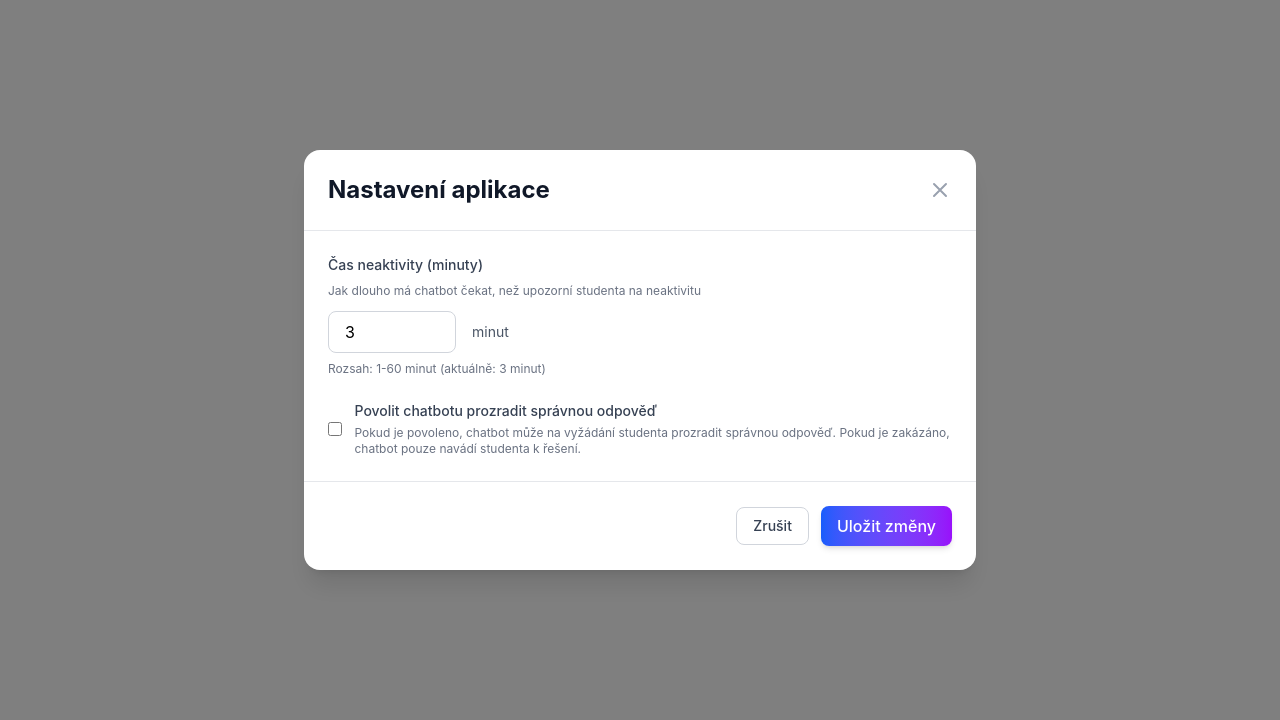
Test: SettingsModal › should reset settings when cancel clicked
This screenshot has width=1280, height=720.
Replace the text in the number field with "10" at (392, 332), box 328,311 -> 456,353
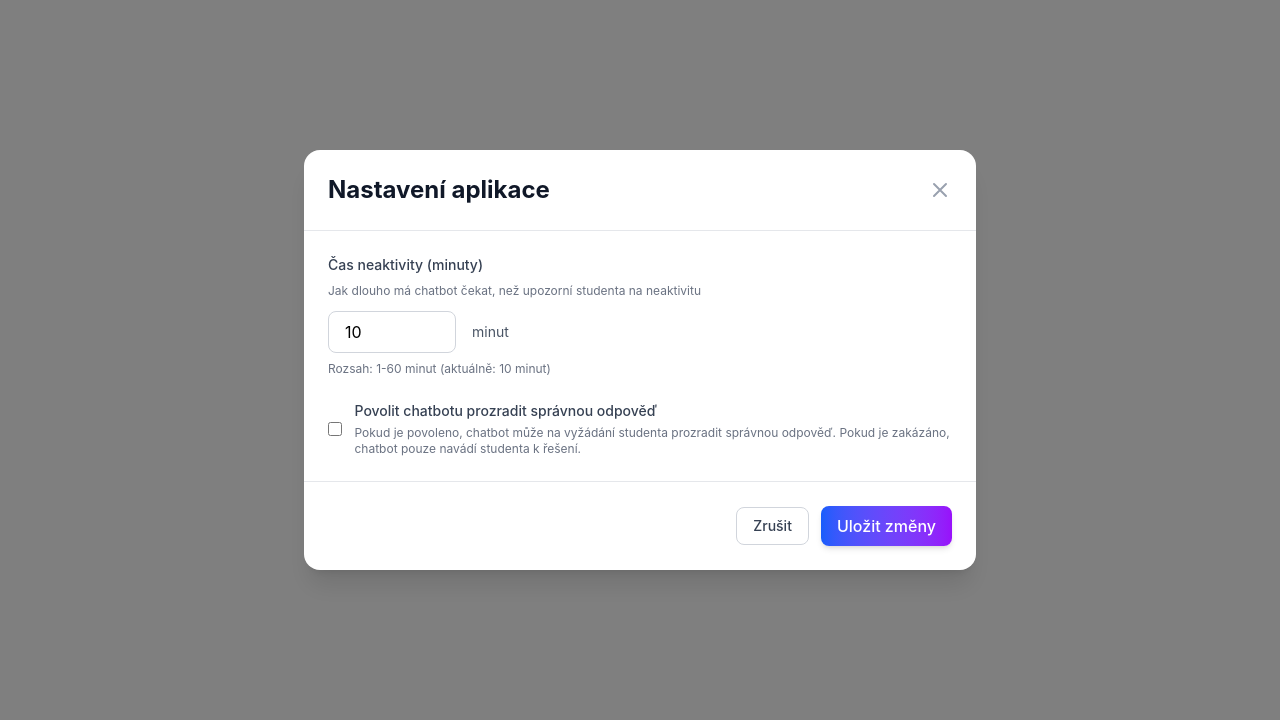
Click the button "Zrušit" at (773, 526), box 736,507 -> 809,545
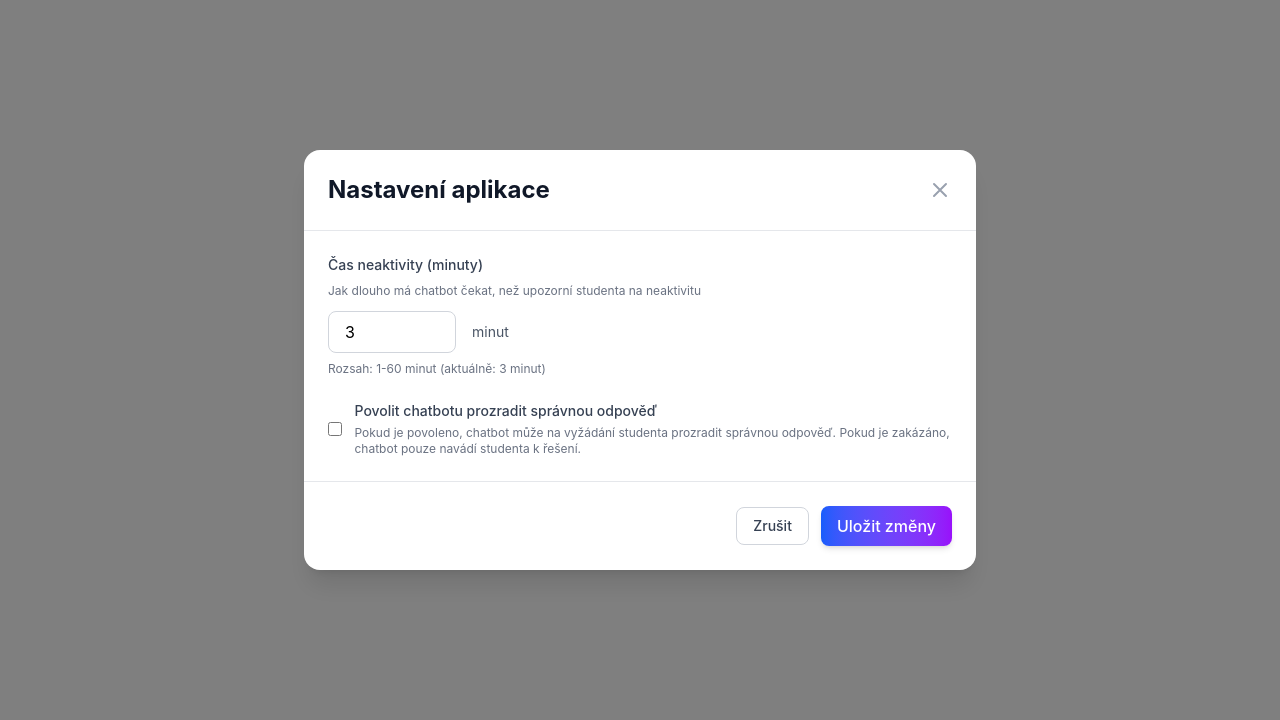
Check: the number field holds "3", box 328,311 -> 456,353
